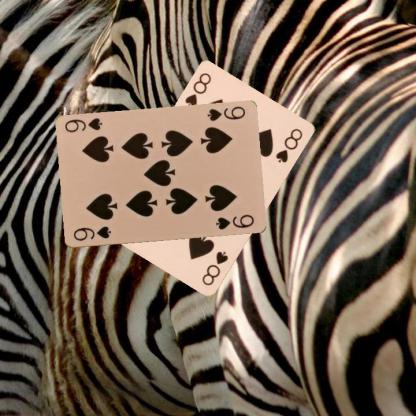8s: (182, 70, 213, 109), (199, 249, 230, 287)
9s: (71, 224, 112, 243), (205, 104, 246, 123)
